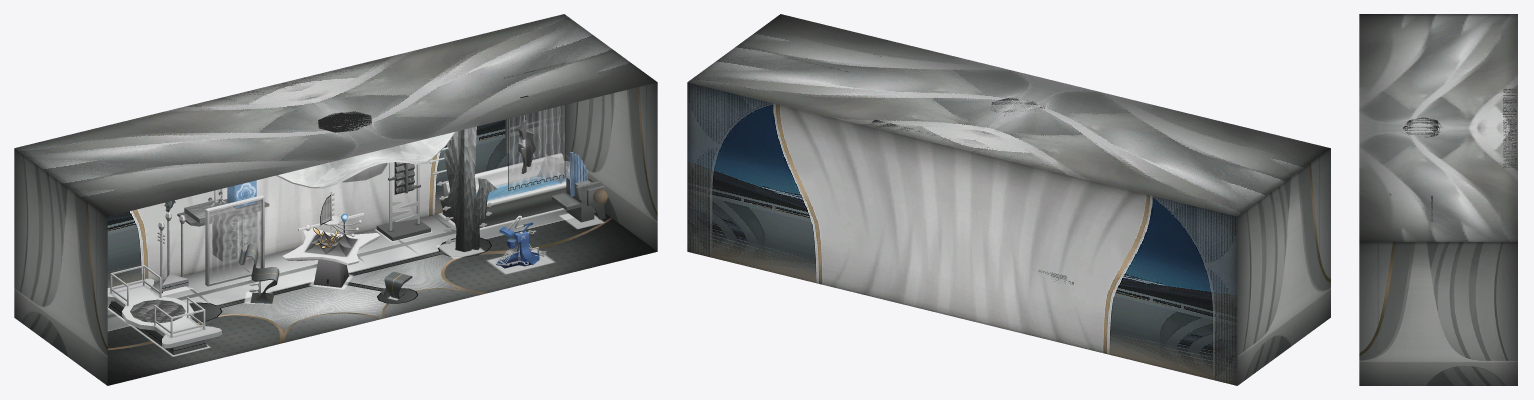
The model's file is HunterInstitute.glb.
3 views of the same model, side by side, from view 1: azimuth 30°, elevation 25°; view 2: azimuth 150°, elevation 25°; view 3: azimuth 270°, elevation 25° (orthographic). The views are drawn at different scales.
Visible parts, largest first — view 1: ROOM_room, ROOM_floor, furni_HunterInstitute_liftplatform_01, furni_HunterInstitute_mirrorspecimenrack_01, furni_HunterInstitute_waterbed_01, furni_HunterInstitute_largespecimen_01, furni_HunterInstitute_chandelier_01, furni_HunterInstitute_specimentable_01, furni_HunterInstitute_mirrorspecimenrack_02, furni_HunterInstitute_rectangularspecimenrack_03, furni_HunterInstitute_carpet_01, furni_HunterInstitute_spikedspecimenrack_01 (+8 smaller); view 2: ROOM_room, ROOM_LDoor; view 3: ROOM_room, ROOM_RDoor, furni_HunterInstitute_projectionequipment_01, furni_HunterInstitute_chandelier_01.
Boxes of the visible parts, left/top/right/bottom form: ROOM_room: left=14, top=14, right=657, bottom=385; ROOM_floor: left=107, top=208, right=657, bottom=385; furni_HunterInstitute_liftplatform_01: left=107, top=265, right=221, bottom=354; furni_HunterInstitute_mirrorspecimenrack_01: left=177, top=180, right=269, bottom=286; furni_HunterInstitute_waterbed_01: left=440, top=153, right=569, bottom=227; furni_HunterInstitute_largespecimen_01: left=427, top=126, right=496, bottom=251; furni_HunterInstitute_chandelier_01: left=276, top=111, right=455, bottom=188; furni_HunterInstitute_specimentable_01: left=282, top=191, right=380, bottom=287; furni_HunterInstitute_mirrorspecimenrack_02: left=209, top=200, right=261, bottom=281; furni_HunterInstitute_rectangularspecimenrack_03: left=509, top=105, right=564, bottom=189; furni_HunterInstitute_carpet_01: left=189, top=237, right=491, bottom=322; furni_HunterInstitute_spikedspecimenrack_01: left=376, top=162, right=430, bottom=240; ROOM_room: left=687, top=14, right=1330, bottom=385; ROOM_LDoor: left=1298, top=251, right=1316, bottom=341; ROOM_room: left=1359, top=14, right=1517, bottom=385; ROOM_RDoor: left=1382, top=320, right=1415, bottom=385; furni_HunterInstitute_projectionequipment_01: left=1503, top=89, right=1516, bottom=167; furni_HunterInstitute_chandelier_01: left=1403, top=117, right=1442, bottom=137.
Size of the model in its own units: 7.48 by 2.2 by 2.23.
Materials: 7 (7 with a texture image).
